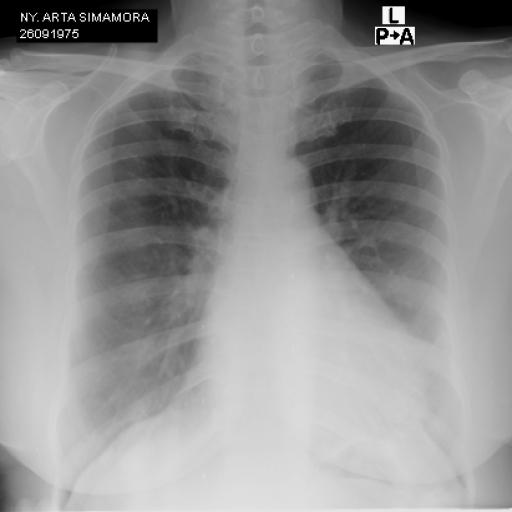kardiomegali: (46, 40, 480, 489)
